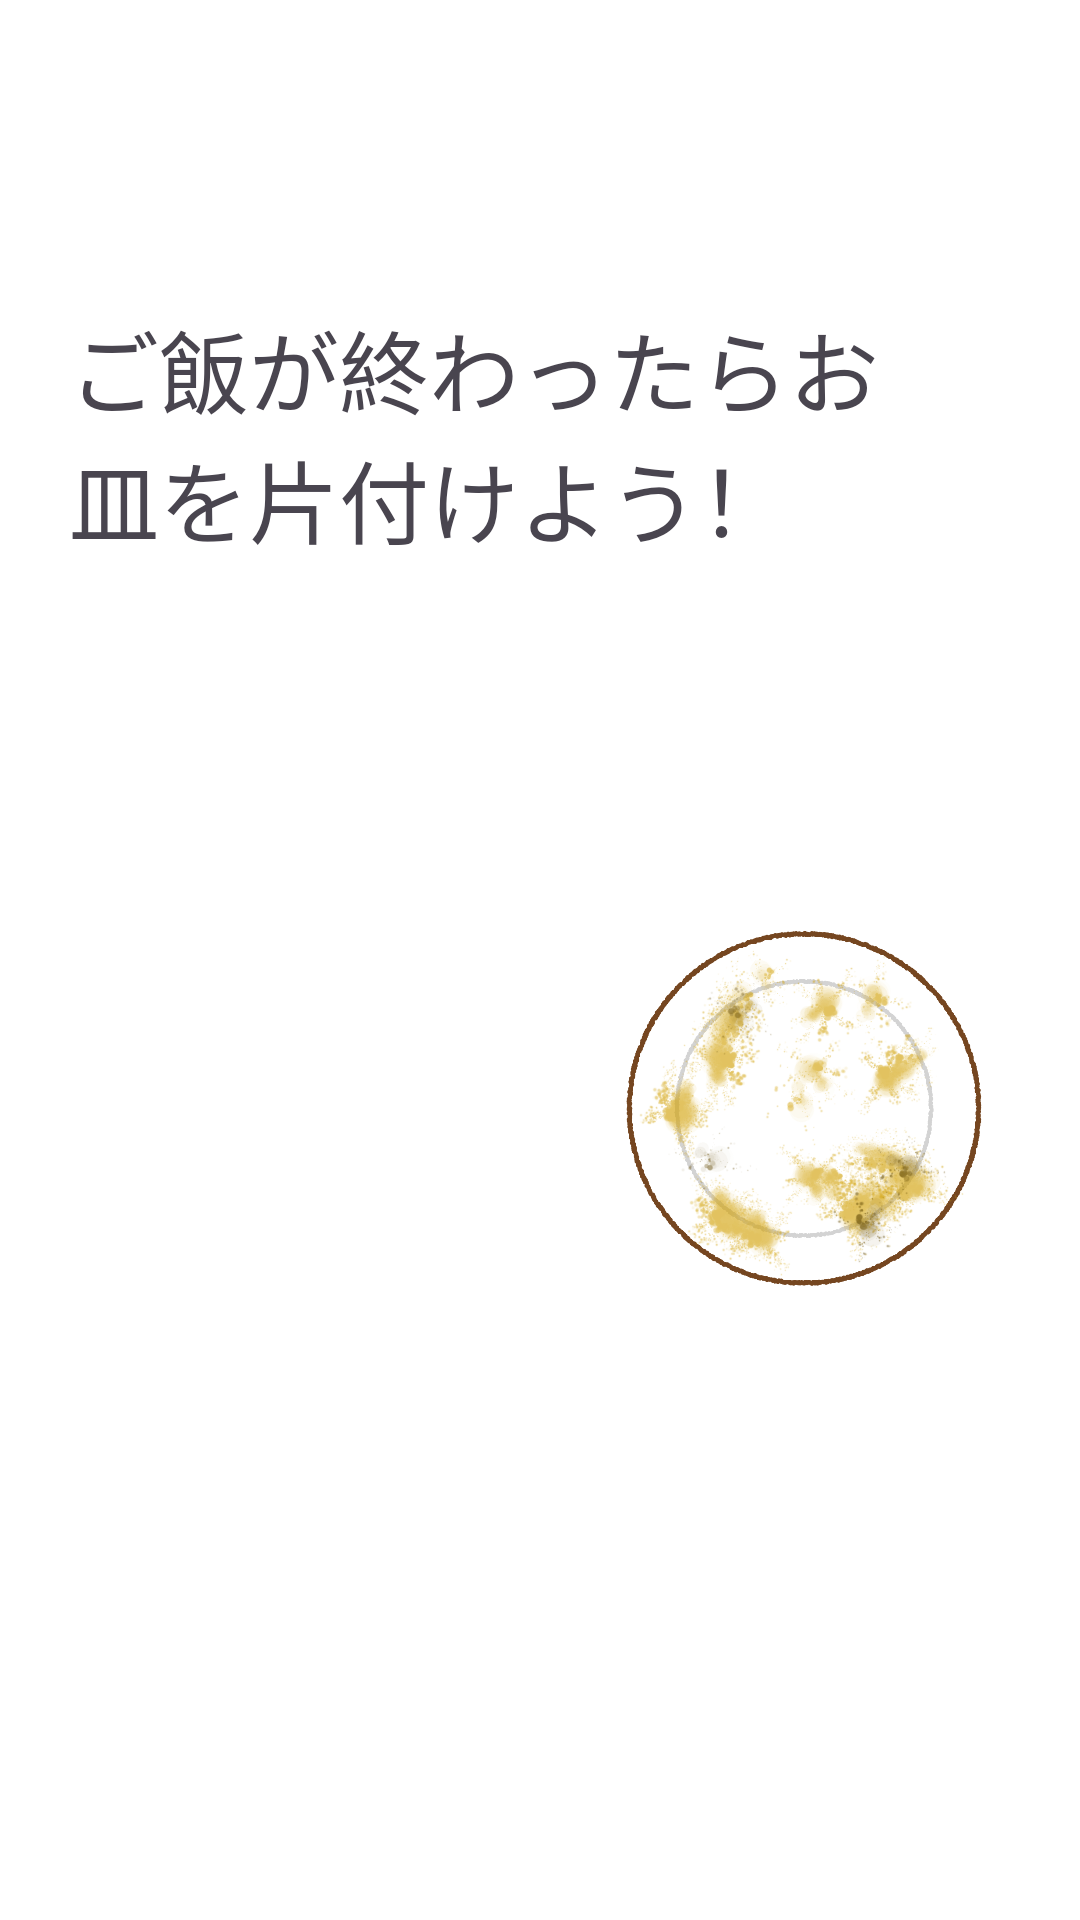

Screen size 1080*1920. Icon name, then its box in pixels as (x1, y1, x2, y2):
dirtydish: (626, 931, 982, 1286)
